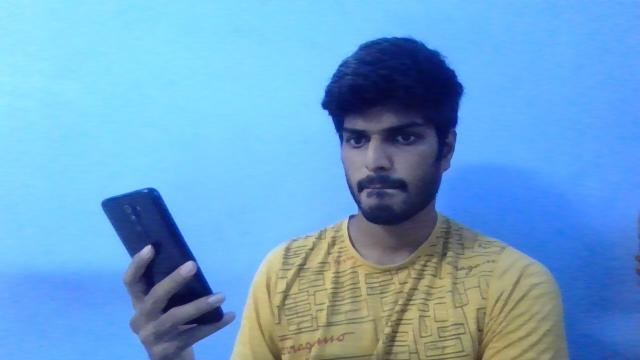PhoneUse: (98, 182, 226, 328)
SafeDriving: (334, 116, 376, 152), (382, 122, 432, 150)
